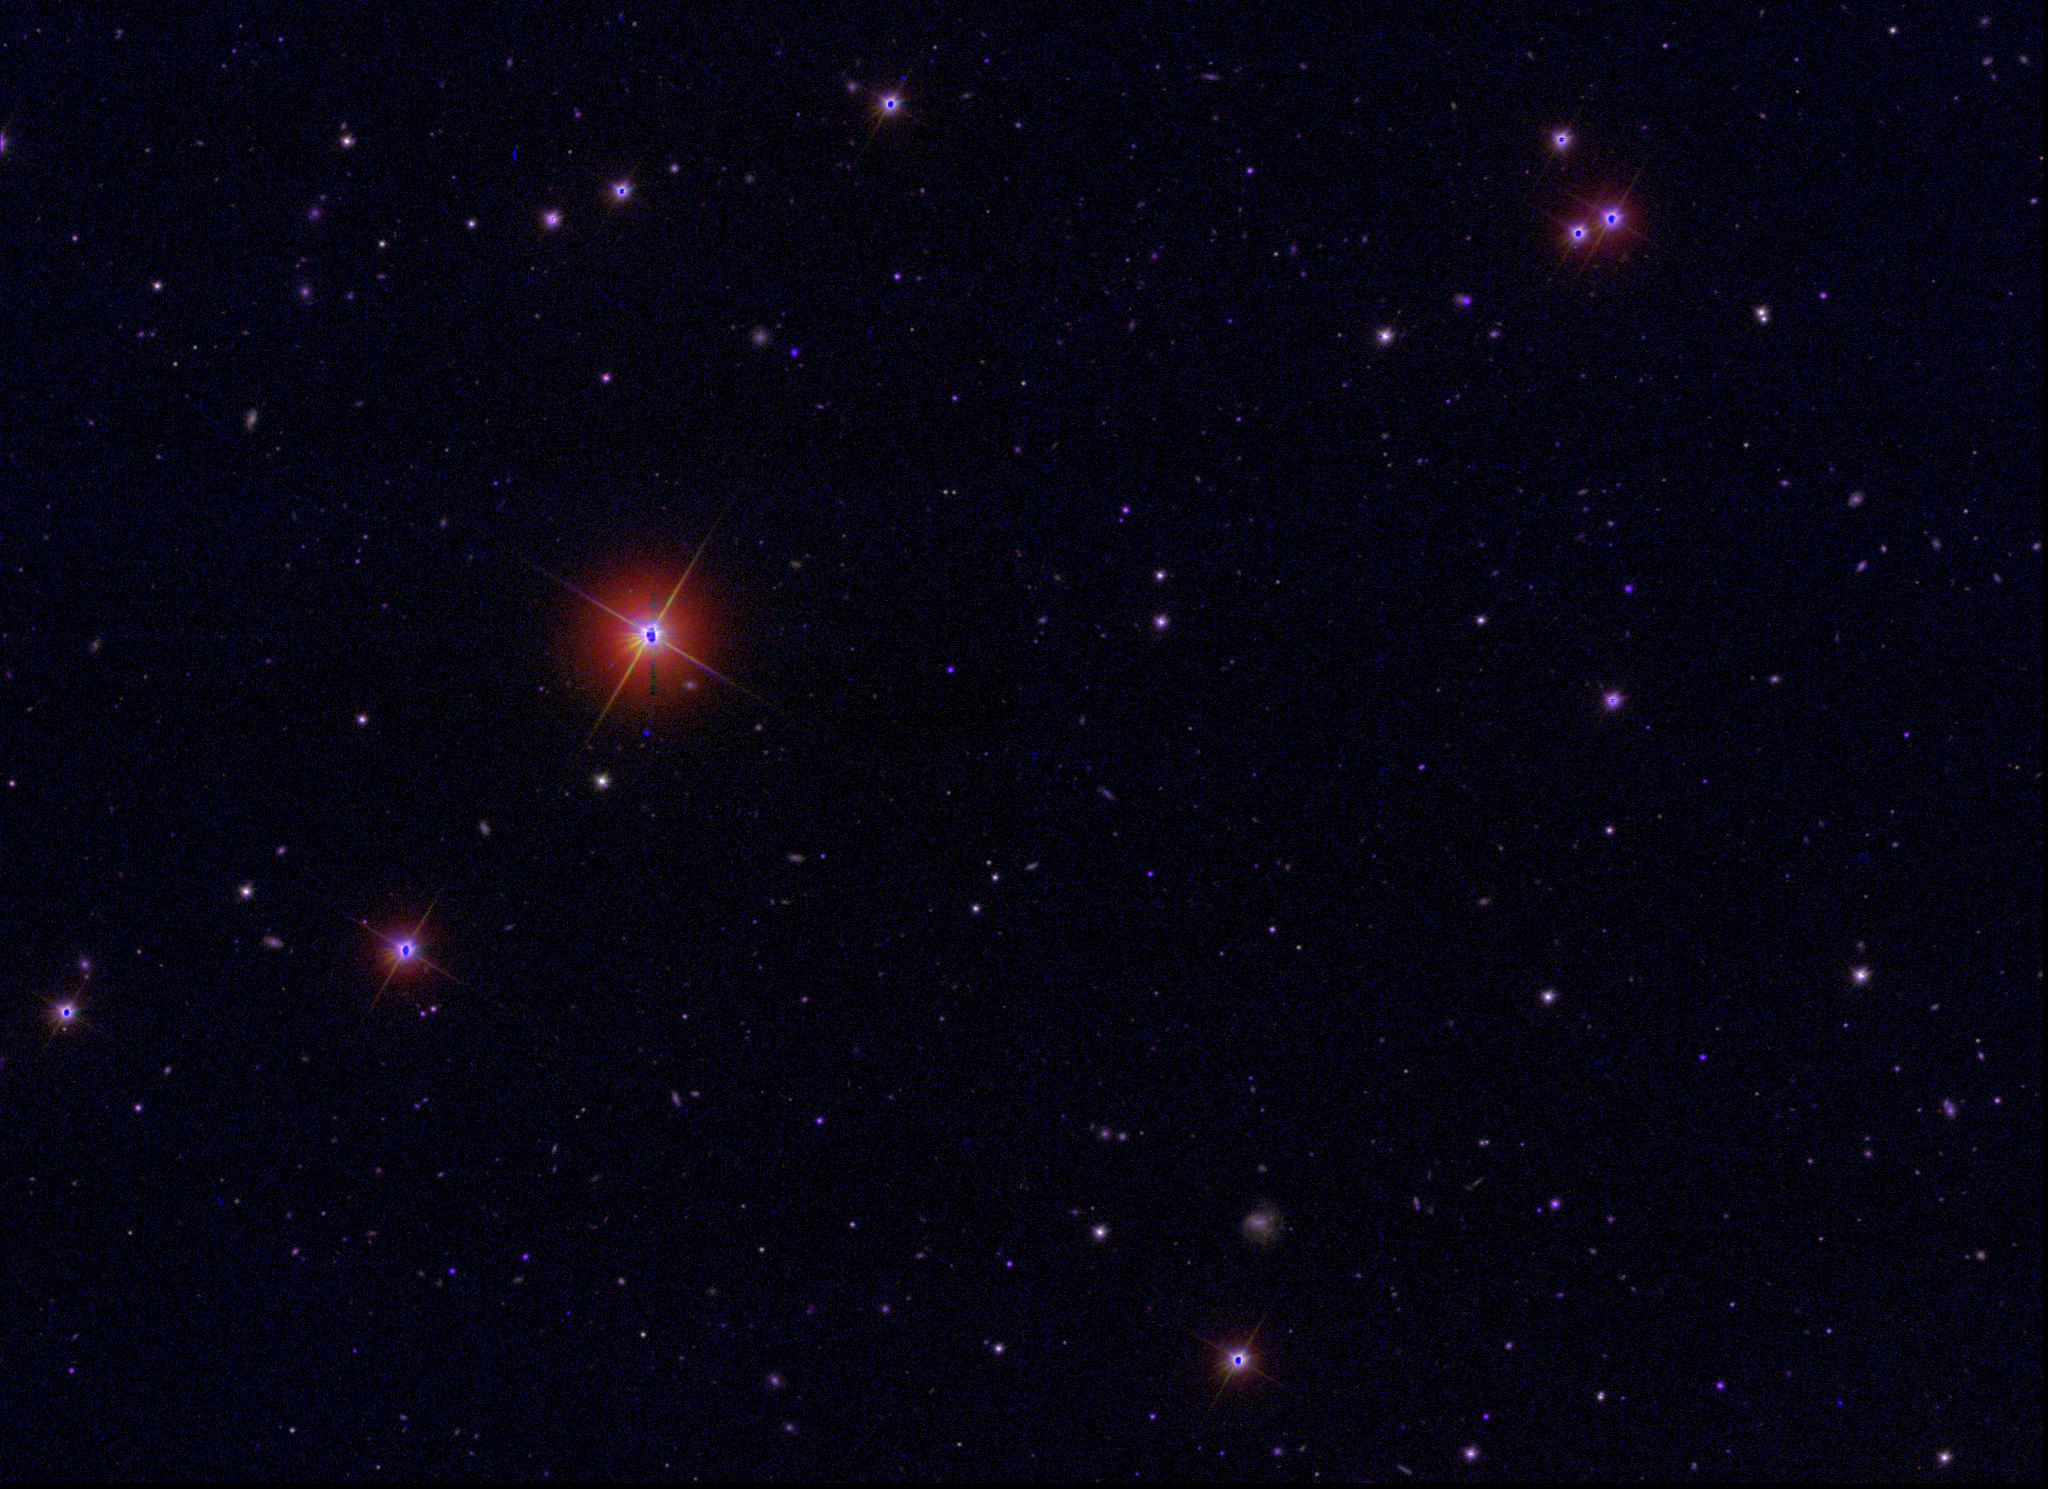L: (1833, 1397, 1848, 1409)
